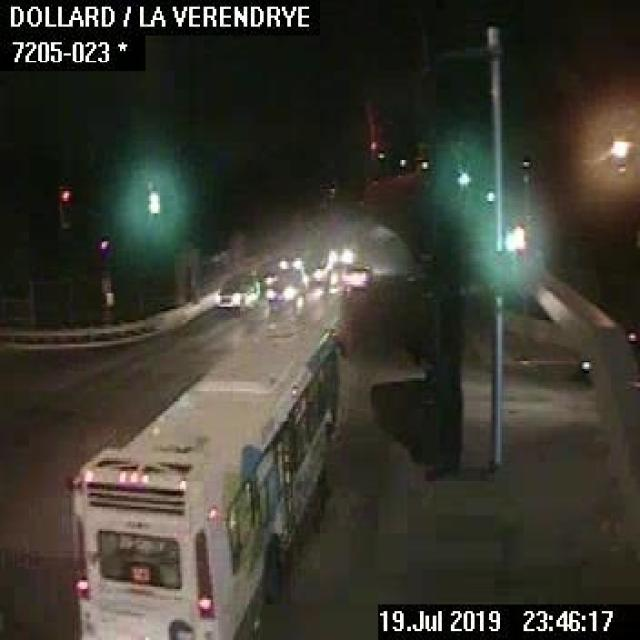bus: (67, 318, 349, 638)
vehicle: (262, 269, 308, 311), (212, 271, 258, 309), (322, 243, 358, 266), (278, 247, 307, 269)
